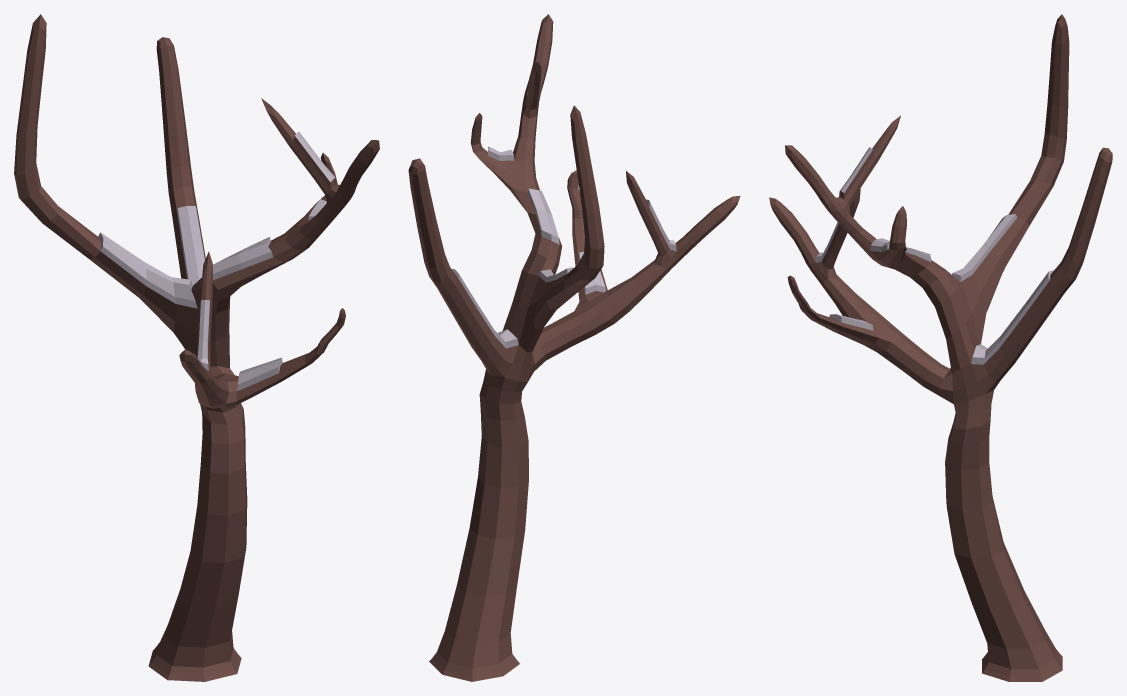
Rendered from commontree_dead_snow_5.glb.
The picture shows the model from 3 angles, left to right: view 1: azimuth 30°, elevation 25°; view 2: azimuth 150°, elevation 25°; view 3: azimuth 270°, elevation 25°; orthographic projection. The views are drawn at different scales.
Parts seen in each view (by area): view 1: CommonTree_Dead_Snow_5; view 2: CommonTree_Dead_Snow_5; view 3: CommonTree_Dead_Snow_5.
Boxes of the visible parts, bbox=[...] form: CommonTree_Dead_Snow_5: bbox=[14, 14, 379, 681]; CommonTree_Dead_Snow_5: bbox=[408, 14, 740, 681]; CommonTree_Dead_Snow_5: bbox=[769, 14, 1112, 681].
Bounding box in the file's own units: 0.8443 × 2.3 × 1.2.
